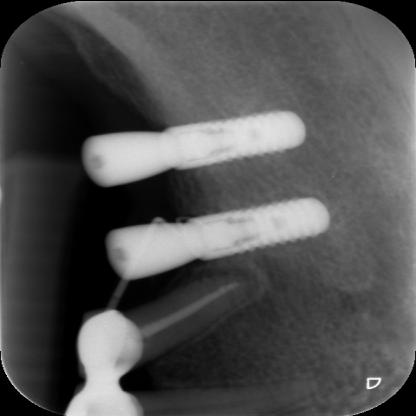ITI: (178, 192, 336, 265), (155, 108, 309, 173)
